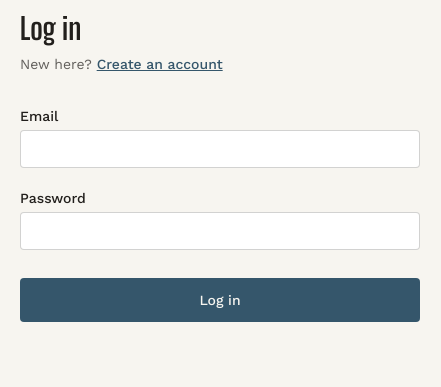
Test: Login page › shows validation errors when the form is submitted empty
The image size is (441, 387).
Click the button "Log in": click(220, 300) [20,278,420,322]
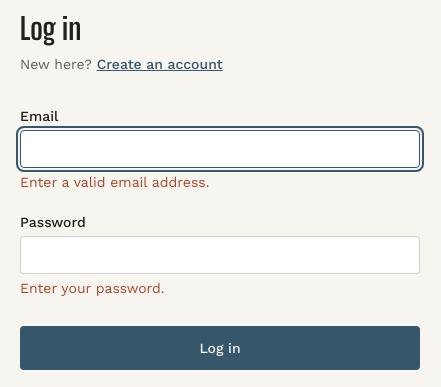
expect the text "Enter a valid email address." is shown: met, box [20,174,209,190]
expect the text "Enter your password." is shown: met, box [20,280,165,296]
